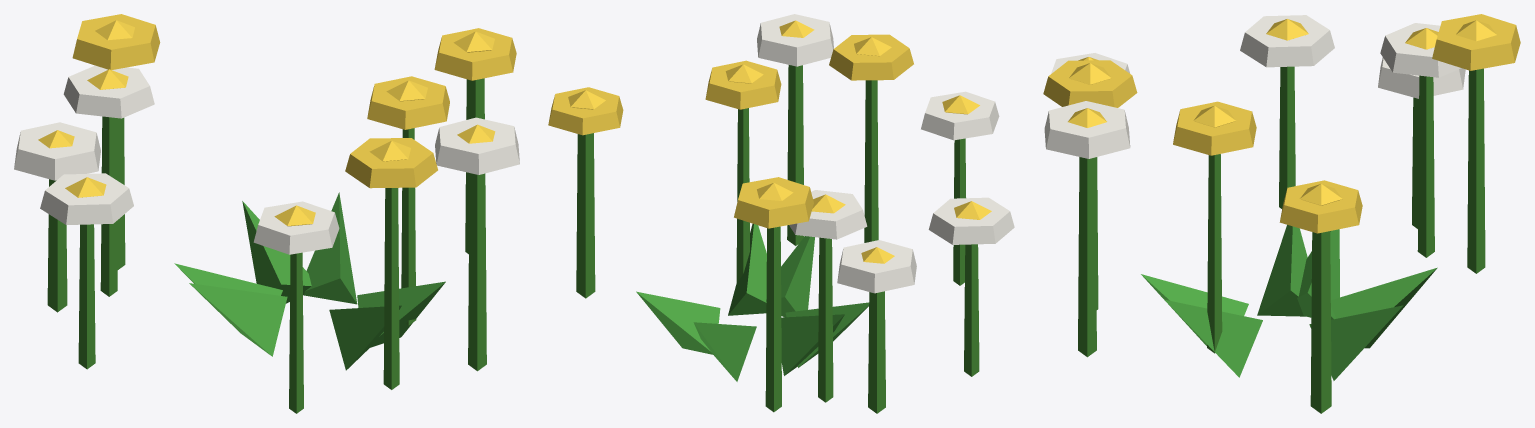
Rendered from Flowers_Daisy.fbx.
3 renders of one model, left to right at view 1: azimuth 30°, elevation 25°; view 2: azimuth 150°, elevation 25°; view 3: azimuth 270°, elevation 25°, orthographic. The views are drawn at different scales.
Parts seen in each view (by area): view 1: Flowers_Daisy; view 2: Flowers_Daisy; view 3: Flowers_Daisy.
Part boxes in pixels (x1=…): Flowers_Daisy: x1=14, y1=14, x2=519, y2=413; Flowers_Daisy: x1=548, y1=14, x2=1014, y2=413; Flowers_Daisy: x1=1043, y1=14, x2=1520, y2=413.
Bounding box in the file's own units: 1.12 × 0.62 × 0.9499.
